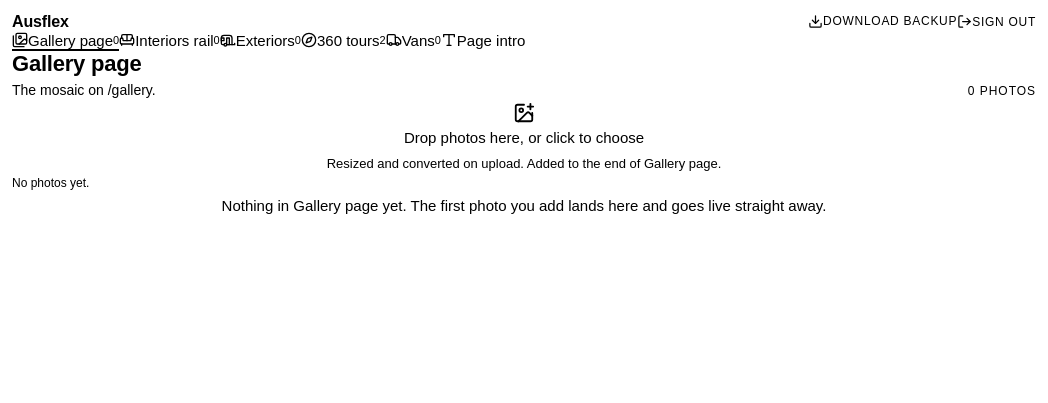
Test: AdminPage › lists tours and marks the first as the one on the home page
Click the tab "360 tours 2" at (343, 41), box [301,32,386,51]
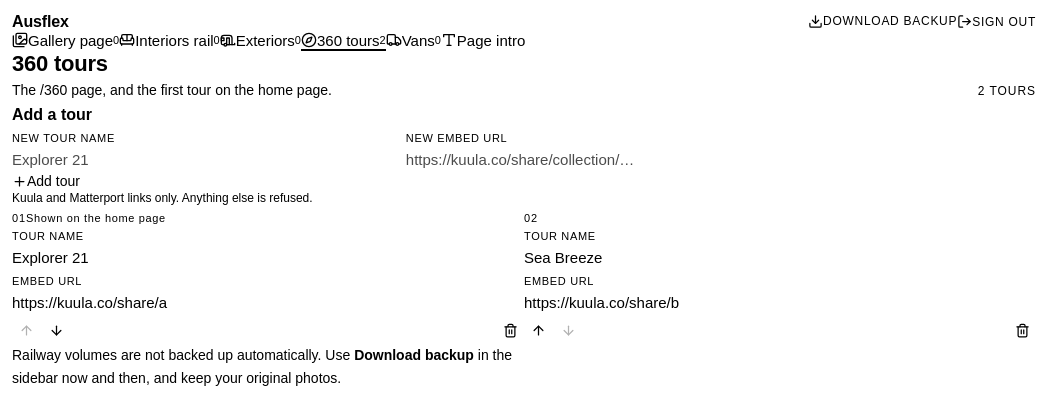
Expected: the field showing "Explorer 21" below "01" is shown, [12,249,524,266]
Expected: the text "Shown on the home page" is shown, [26,209,166,227]
